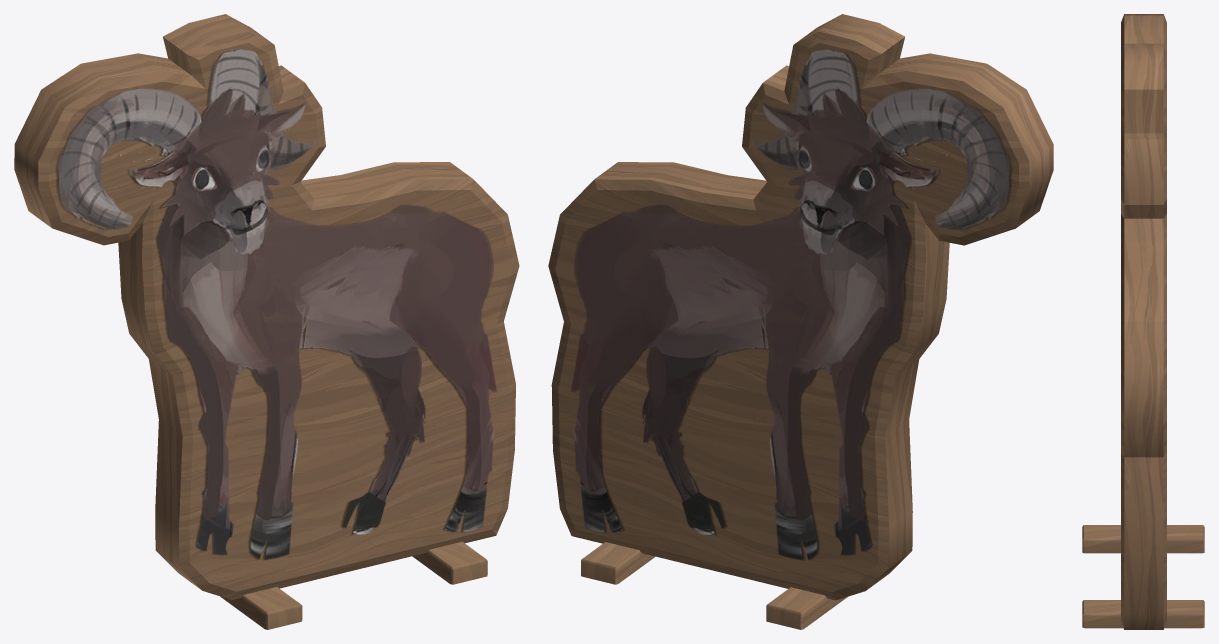
Rendered from goat cutout.glb.
3 views of the same model, side by side, from view 1: azimuth 30°, elevation 25°; view 2: azimuth 150°, elevation 25°; view 3: azimuth 270°, elevation 25° (orthographic). The views are drawn at different scales.
Parts seen in each view (by area): view 1: Standee_BighornSheep_LOD0; view 2: Standee_BighornSheep_LOD0; view 3: Standee_BighornSheep_LOD0.
Part boxes in pixels (<box>): Standee_BighornSheep_LOD0: <box>14,14,519,629</box>; Standee_BighornSheep_LOD0: <box>548,14,1053,629</box>; Standee_BighornSheep_LOD0: <box>1082,14,1204,629</box>.
Size of the model in its own units: 1.19 by 1.37 by 0.3167.
1 material, 1 textured.
